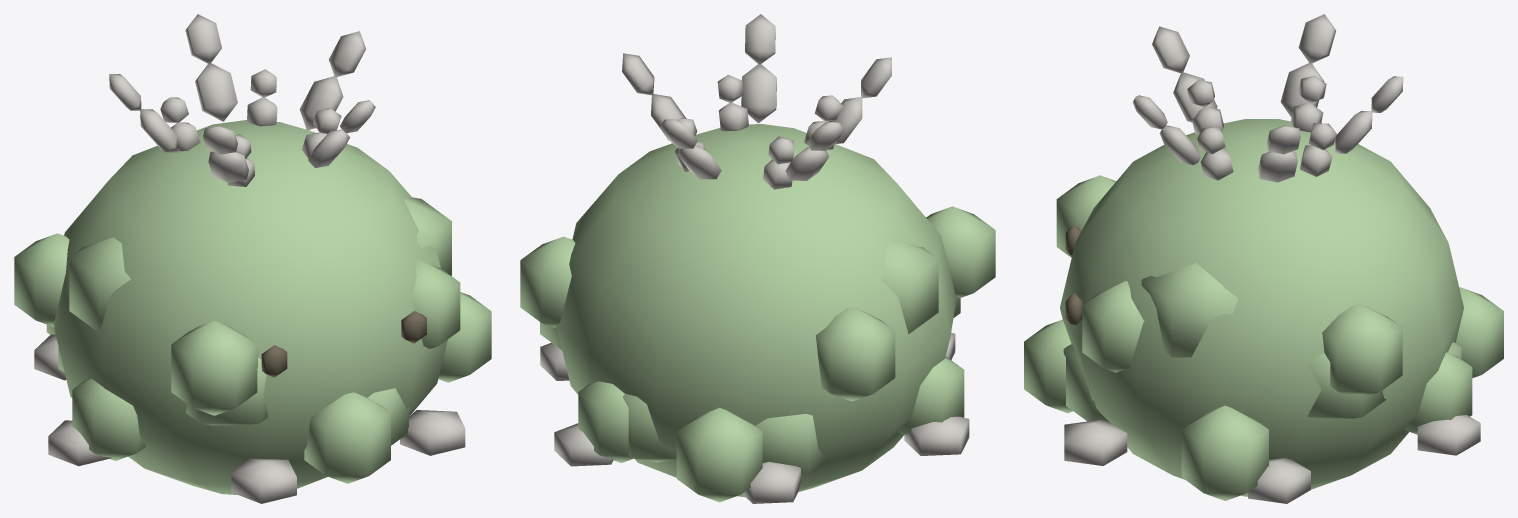
The model's file is moss_shield_idle.fbx.
3 views of the same model, side by side, from view 1: azimuth 30°, elevation 25°; view 2: azimuth 150°, elevation 25°; view 3: azimuth 270°, elevation 25° (orthographic).
Parts seen in each view (by area): view 1: Body_moss_shield; view 2: Body_moss_shield; view 3: Body_moss_shield.
Boxes of the visible parts, x1,y1,x2,y2 form: Body_moss_shield: [14, 14, 491, 503]; Body_moss_shield: [520, 14, 995, 503]; Body_moss_shield: [1024, 14, 1503, 503].
Bounding box in the file's own units: 171 × 161 × 170.
